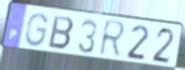2: (150, 27, 177, 66), (124, 25, 151, 63)
3: (78, 17, 98, 55)
B: (46, 14, 75, 52)
G: (24, 12, 50, 49)
R: (97, 18, 128, 61)
